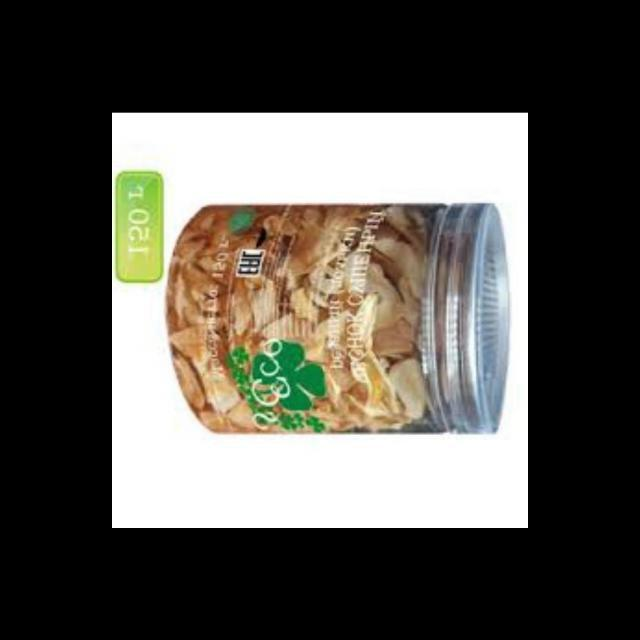garlic: (164, 207, 424, 417)
